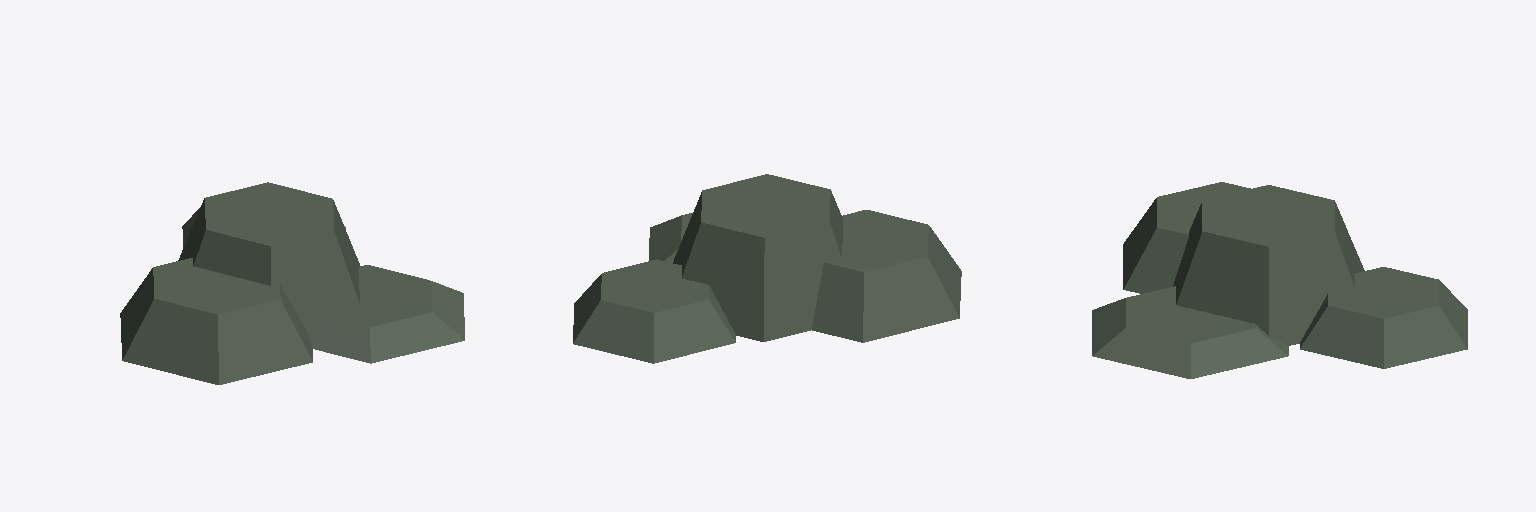
Rendered from Rock.obj.
3 renders of one model, left to right at view 1: azimuth 30°, elevation 25°; view 2: azimuth 150°, elevation 25°; view 3: azimuth 270°, elevation 25°, orthographic.
Parts seen in each view (by area): view 1: detail_rocks.001; view 2: detail_rocks.001; view 3: detail_rocks.001.
Part boxes in pixels (bbox=[...]): detail_rocks.001: bbox=[120, 182, 464, 384]; detail_rocks.001: bbox=[573, 174, 961, 363]; detail_rocks.001: bbox=[1092, 182, 1467, 378].
Bounding box in the file's own units: 0.6 × 0.155 × 0.6.